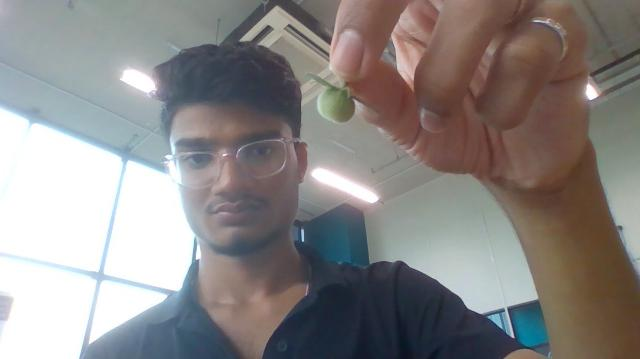Fruit Maturation: (316, 85, 355, 125)
